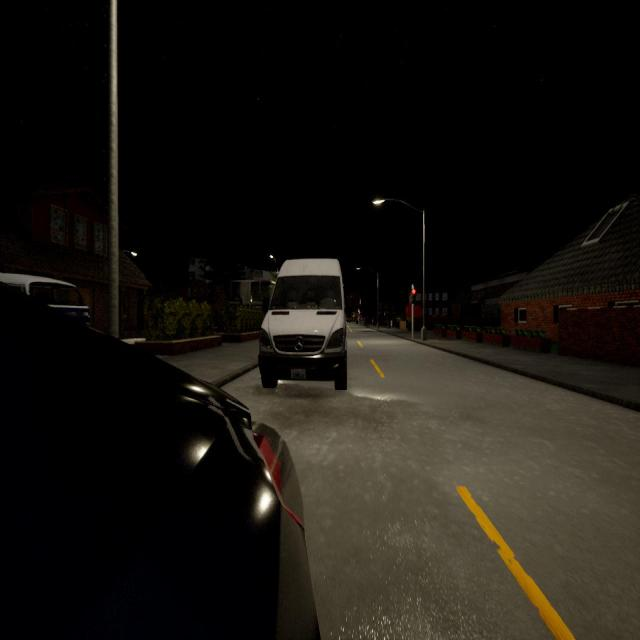Vehicle: (0, 284, 319, 637), (256, 260, 354, 390), (0, 273, 92, 328)
traffic_light: (412, 288, 416, 304)
